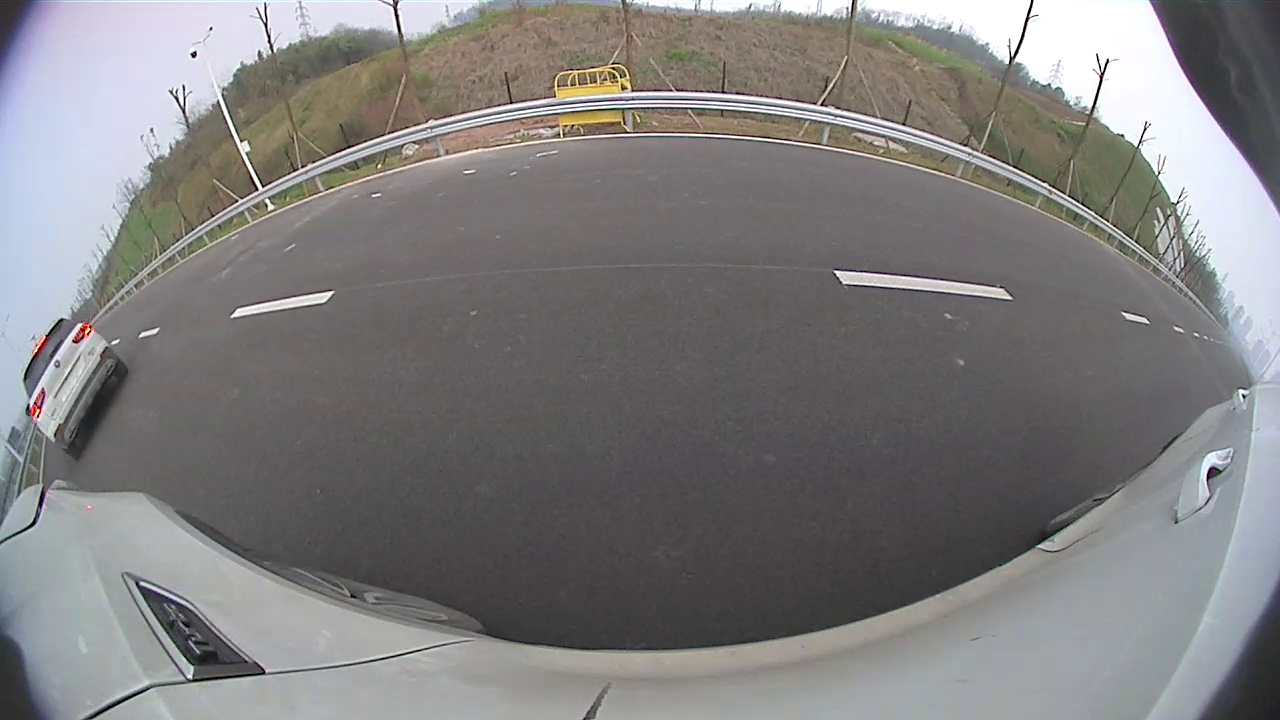car: (23, 317, 128, 460)
